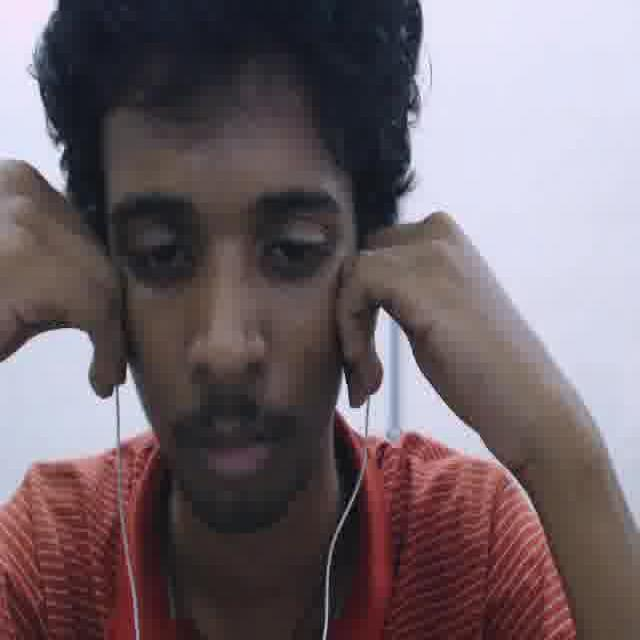Frustration: (93, 67, 354, 508)
